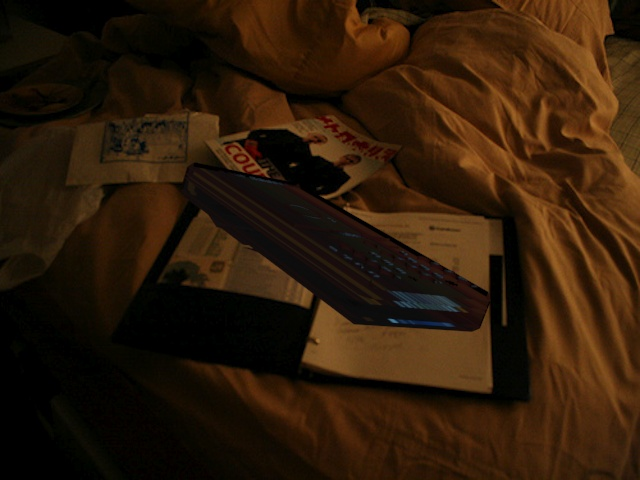mobile_phone: (177, 161, 497, 337)
